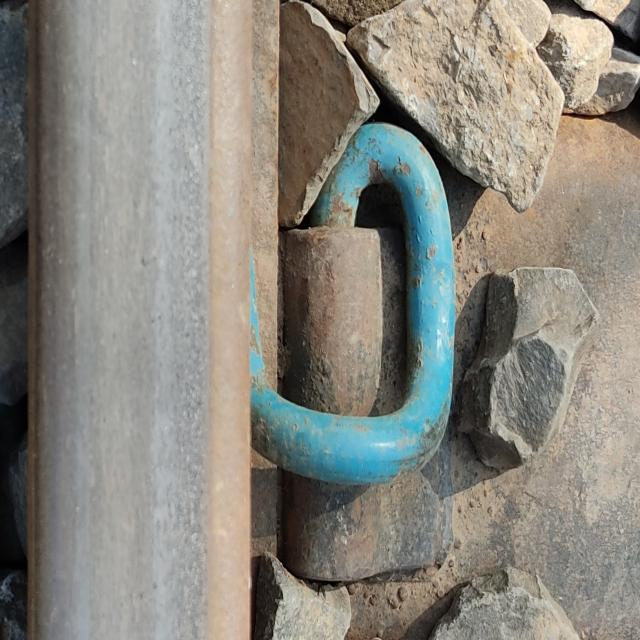track_bolt: (248, 112, 461, 496)
